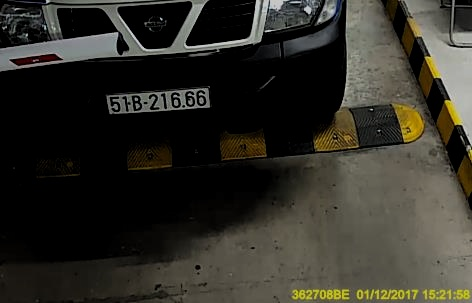plate: (105, 88, 211, 112)
